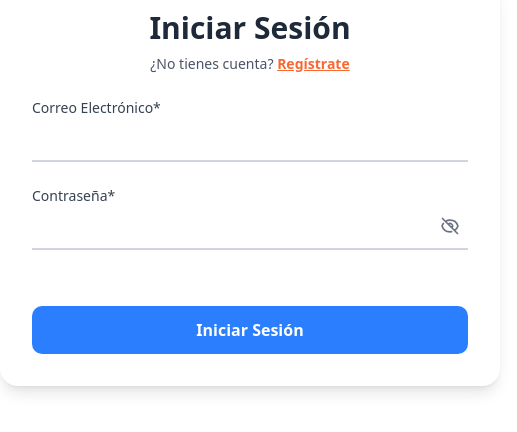
Test case: LoginForm › Validaciones de formulario › debe mostrar error si password está vacío
Click the password field labelled "Contraseña*": (250, 229) [32,208,468,250]
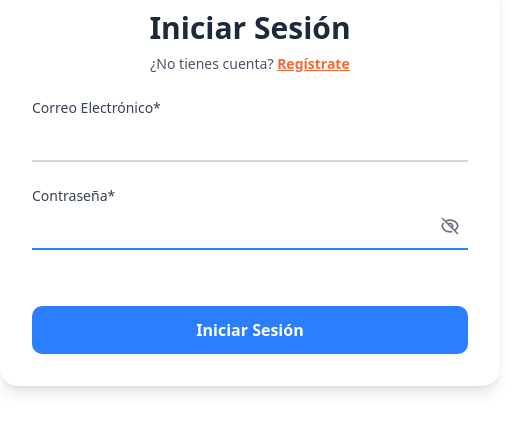
Press Tab
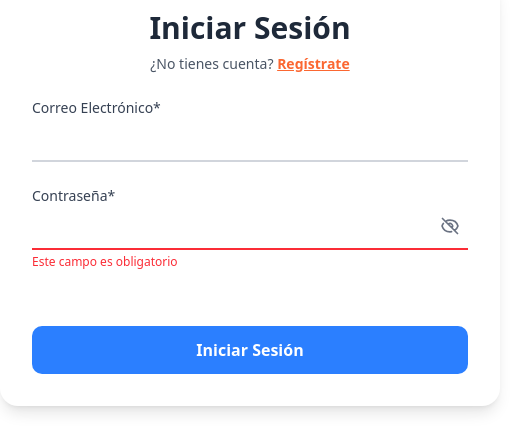
Expected: the text "Este campo es obligatorio" is shown, [32,253,178,270]
